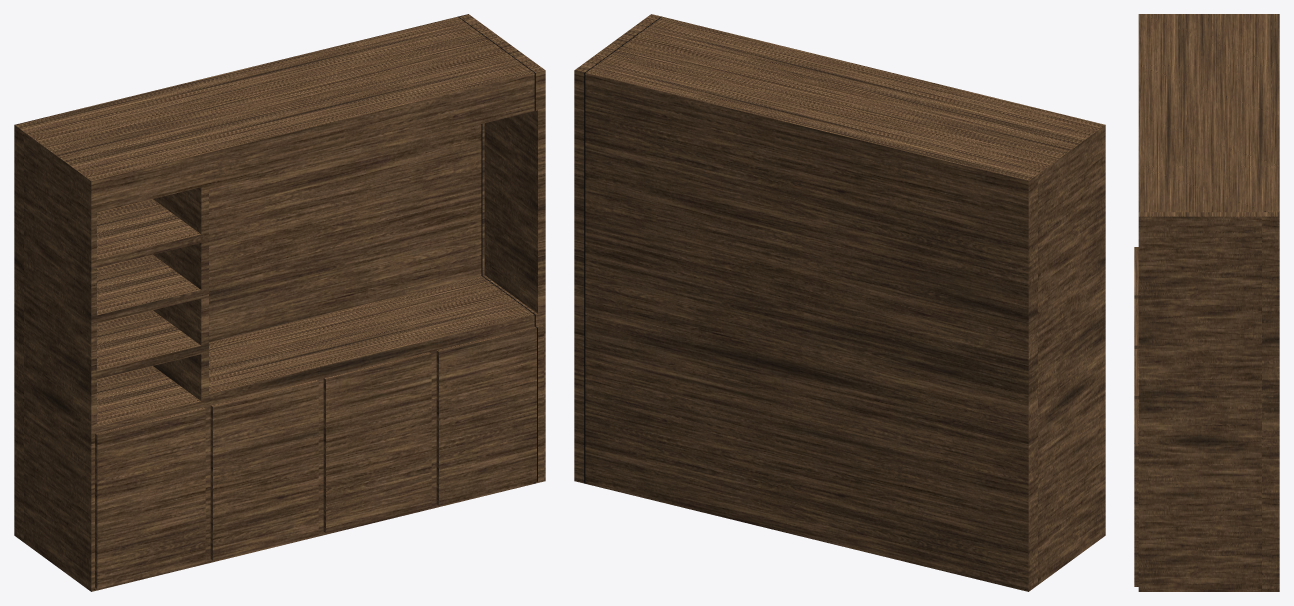
File: TV_CABINET.fbx
3 views of the same model, side by side, from view 1: azimuth 30°, elevation 25°; view 2: azimuth 150°, elevation 25°; view 3: azimuth 270°, elevation 25° (orthographic). The views are drawn at different scales.
Parts seen in each view (by area): view 1: TV_CABINET; view 2: TV_CABINET; view 3: TV_CABINET.
Boxes of the visible parts, bbox=[...] form: TV_CABINET: bbox=[14, 14, 545, 591]; TV_CABINET: bbox=[574, 14, 1105, 591]; TV_CABINET: bbox=[1134, 14, 1279, 591].
Bounding box in the file's own units: 224 × 194 × 67.97.
